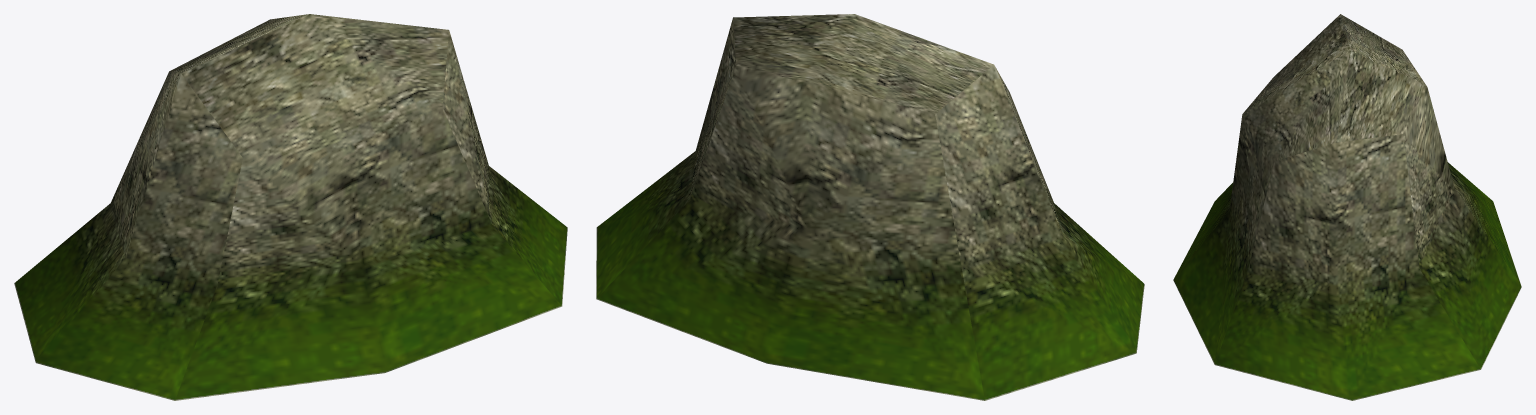
The model's file is nast8.dae.
3 views of the same model, side by side, from view 1: azimuth 30°, elevation 25°; view 2: azimuth 150°, elevation 25°; view 3: azimuth 270°, elevation 25° (orthographic). The views are drawn at different scales.
Visible parts, largest first — view 1: stonegreen06; view 2: stonegreen06; view 3: stonegreen06.
Boxes of the visible parts, x1,y1,x2,y2 form: stonegreen06: (14,14,567,400); stonegreen06: (596,14,1144,400); stonegreen06: (1173,14,1521,400).
Size of the model in its own units: 5.29 by 3.43 by 2.61.
Materials: 1 (1 with a texture image).
